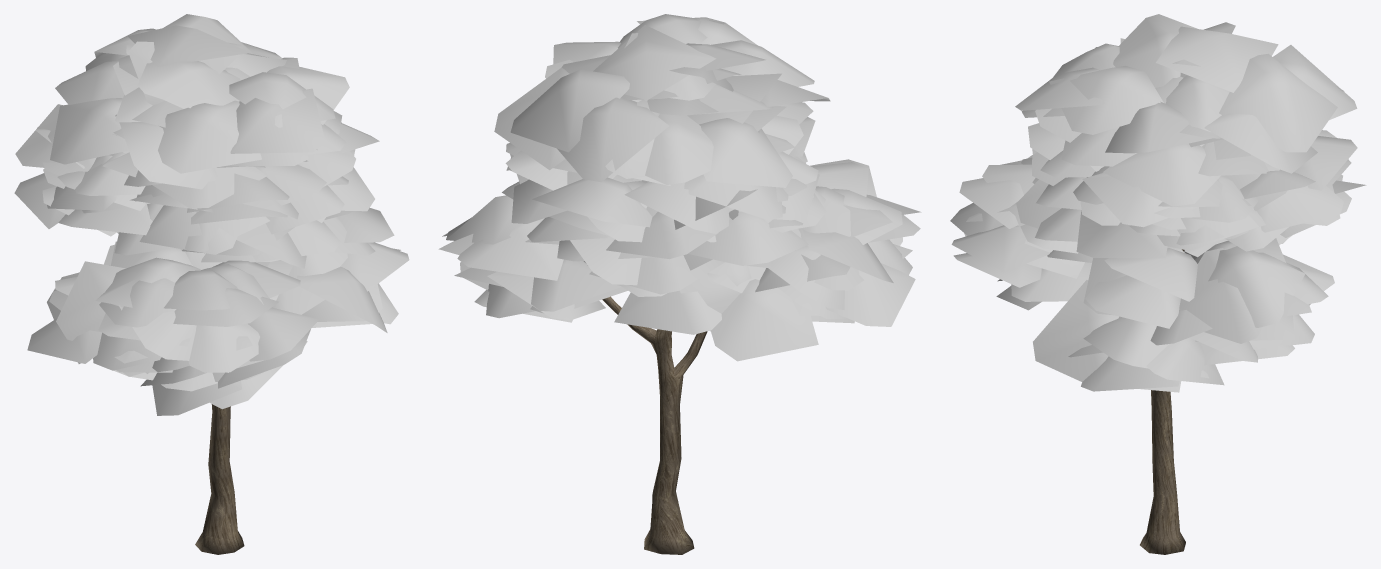
The model's file is Magnolia_garrettii_tree.fbx.
3 renders of one model, left to right at view 1: azimuth 30°, elevation 25°; view 2: azimuth 150°, elevation 25°; view 3: azimuth 270°, elevation 25°, orthographic. The views are drawn at different scales.
Parts seen in each view (by area): view 1: magnolia_LOD0; view 2: magnolia_LOD0; view 3: magnolia_LOD0.
Part boxes in pixels (x1=…): magnolia_LOD0: x1=14, y1=14, x2=409, y2=554; magnolia_LOD0: x1=438, y1=14, x2=921, y2=554; magnolia_LOD0: x1=950, y1=14, x2=1366, y2=554.
Size of what is drawn, in the model's own units: 808 by 1012 by 755.
